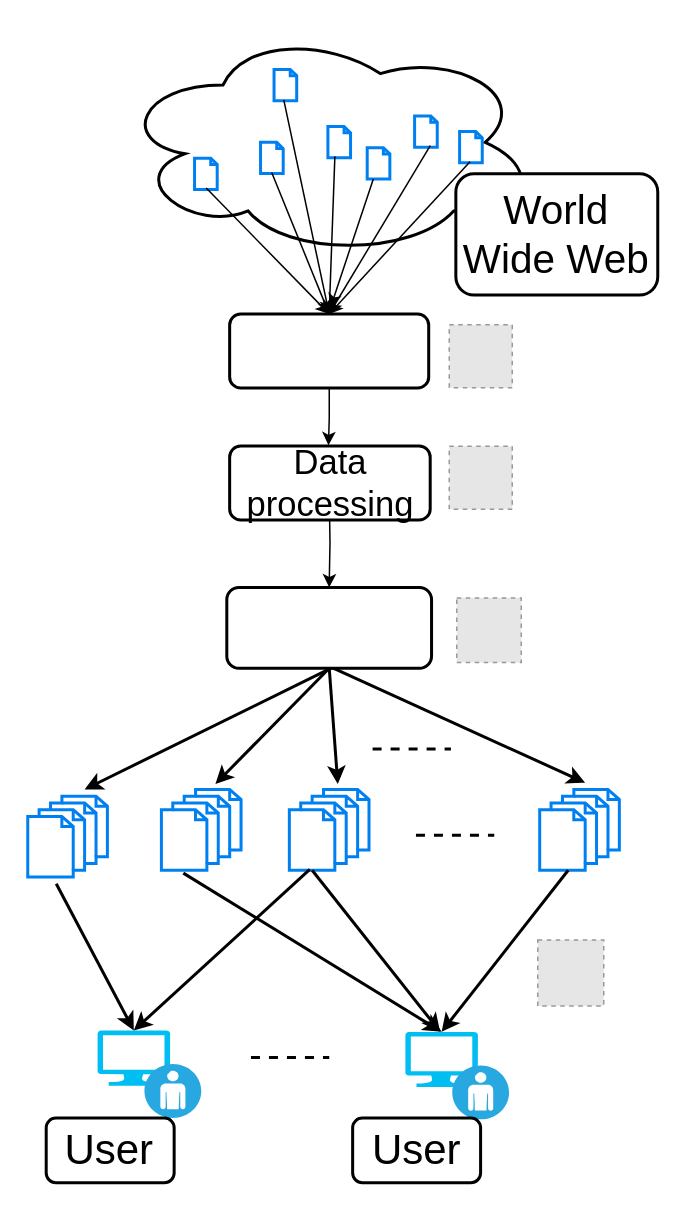
This 684x1209 diagram has some shape labels left out. Grey dashed boxes stand in for pictures. Each missing label, with the centre of its shape:
"Classiffier" belongs at (328,627).
"Data gathering" belongs at (328,350).
